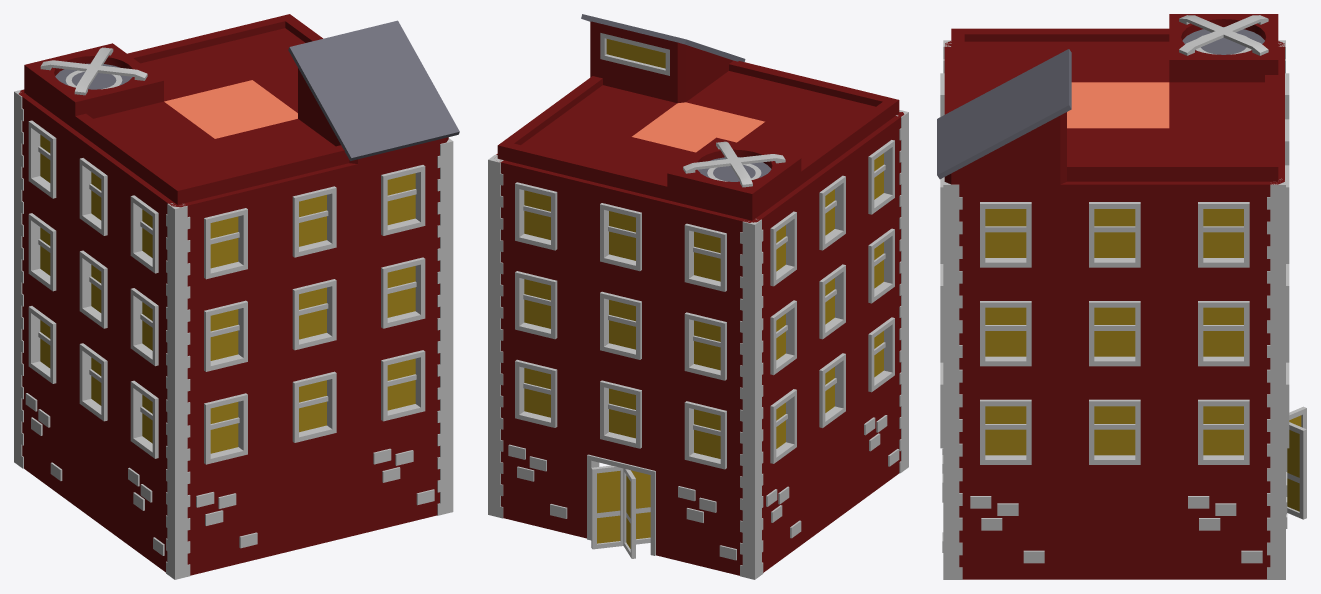
The model's file is house.fbx.
3 views of the same model, side by side, from view 1: azimuth 30°, elevation 25°; view 2: azimuth 150°, elevation 25°; view 3: azimuth 270°, elevation 25° (orthographic). The views are drawn at different scales.
Parts seen in each view (by area): view 1: roof_factorySlant_187, wall_window_211, wall_window_216, wall_straight_244, wall_window_219, wall_window_210, detail_airHuge_188, wall_window_230, wall_window_233, wall_window_213, wall_window_212, wall_window_214 (+37 smaller); view 2: roof_factorySlant_187, wall_window_196, wall_doorRevolving_189, detail_airHuge_188, wall_window_192, wall_window_199, wall_window_195, wall_window_197, wall_window_191, wall_window_198, wall_window_194, wall_window_193 (+37 smaller); view 3: roof_factorySlant_187, wall_window_229, wall_straight_247, wall_window_222, wall_window_226, wall_window_225, wall_window_228, wall_window_220, wall_window_227, wall_window_224, wall_window_221, wall_straight_246 (+24 smaller).
Boxes of the visible parts, <box> form: roof_factorySlant_187: <box>288,20,459,163</box>; wall_window_211: <box>263,163,357,278</box>; wall_window_216: <box>269,349,357,463</box>; wall_straight_244: <box>269,442,357,556</box>; wall_window_219: <box>269,257,357,370</box>; wall_window_210: <box>176,182,271,297</box>; detail_airHuge_188: <box>24,43,163,129</box>; wall_window_230: <box>187,371,269,482</box>; wall_window_233: <box>187,278,269,390</box>; wall_window_213: <box>358,237,439,349</box>; wall_window_212: <box>358,144,439,256</box>; wall_window_214: <box>358,330,439,441</box>; roof_factorySlant_187: <box>581,14,745,103</box>; wall_window_196: <box>577,178,664,290</box>; wall_doorRevolving_189: <box>579,448,664,558</box>; detail_airHuge_188: <box>667,137,801,220</box>; wall_window_192: <box>579,359,664,468</box>; wall_window_199: <box>579,270,664,379</box>; wall_window_195: <box>662,199,757,309</box>; wall_window_197: <box>500,160,586,270</box>; wall_window_191: <box>501,340,579,447</box>; wall_window_198: <box>501,252,579,358</box>; wall_window_194: <box>664,291,742,398</box>; wall_window_193: <box>664,380,742,486</box>; roof_factorySlant_187: <box>937,49,1071,184</box>; wall_window_229: <box>1060,181,1174,283</box>; wall_straight_247: <box>1060,480,1169,579</box>; wall_window_222: <box>1060,382,1169,480</box>; wall_window_226: <box>1060,283,1169,381</box>; wall_window_225: <box>1163,179,1284,283</box>; wall_window_228: <box>959,184,1060,283</box>; wall_window_220: <box>959,382,1060,480</box>; wall_window_227: <box>959,283,1060,381</box>; wall_window_224: <box>1169,283,1270,381</box>; wall_window_221: <box>1169,382,1270,480</box>; wall_straight_246: <box>959,480,1060,579</box>.
Bounding box in the file's own units: 32.15 × 48.28 × 33.94.
